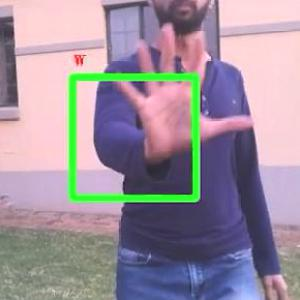follow_hand: (105, 19, 252, 169)
